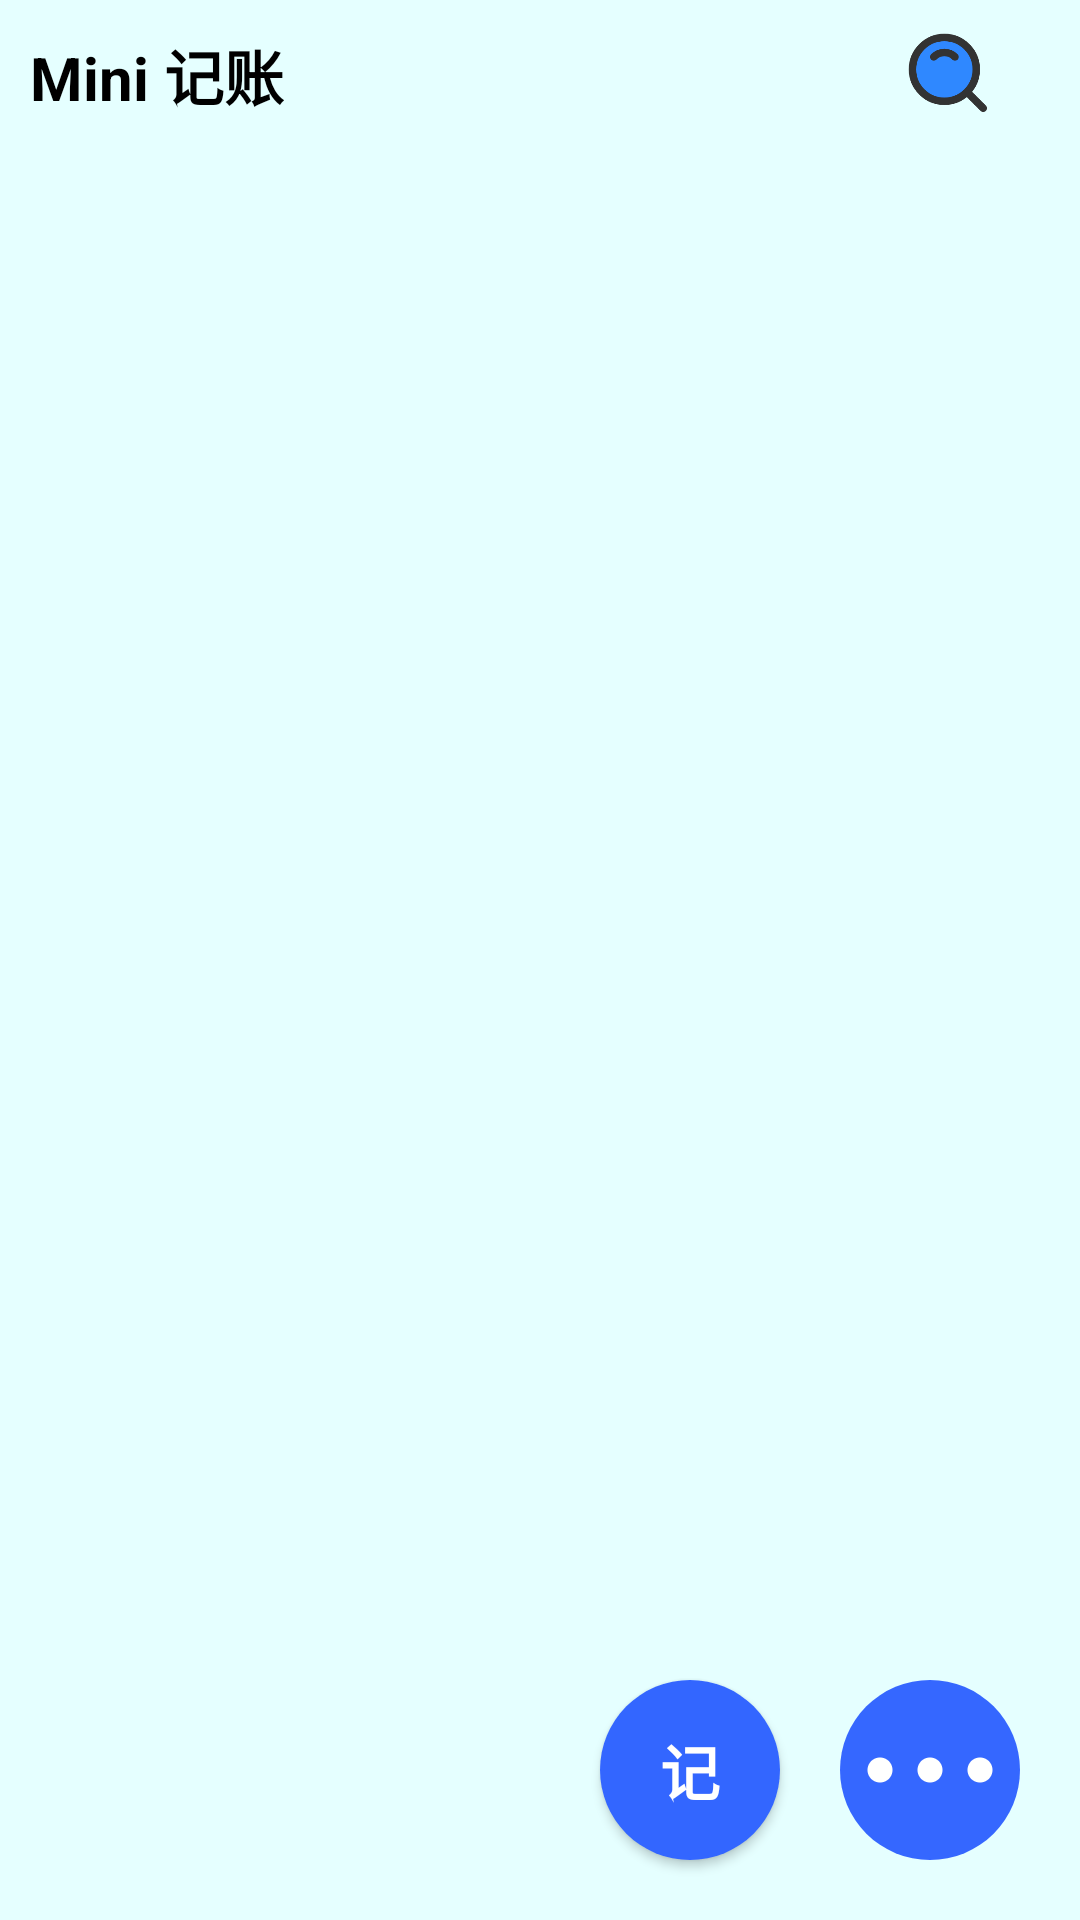

Named icons in this screenshot (1080x1920) and their bounding boxes, [x1, y1, x2, y2]:
more: [840, 1680, 1020, 1860]
search: [908, 33, 987, 112]
